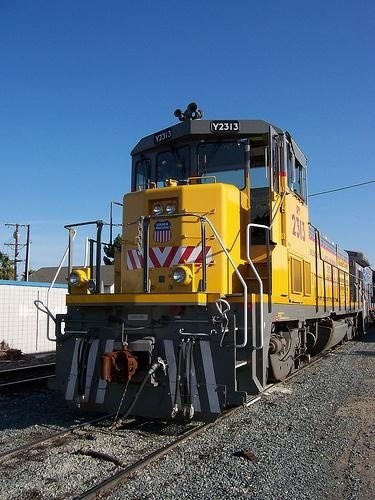train: (48, 102, 372, 424)
